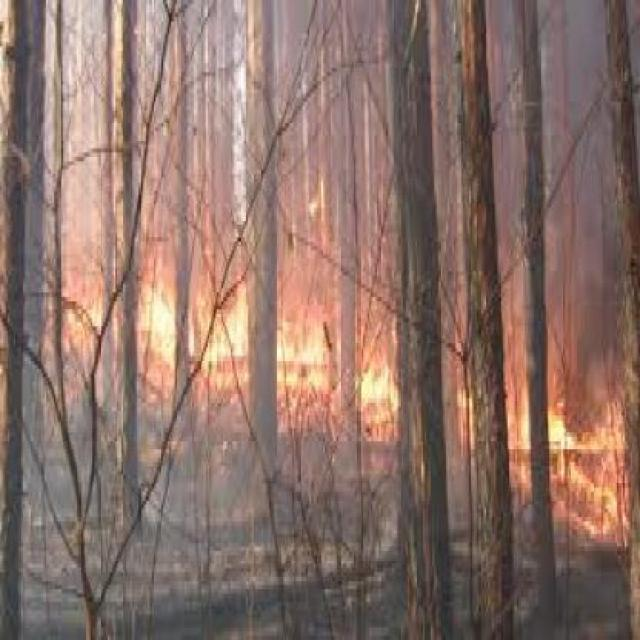Fire: (64, 236, 640, 552)
